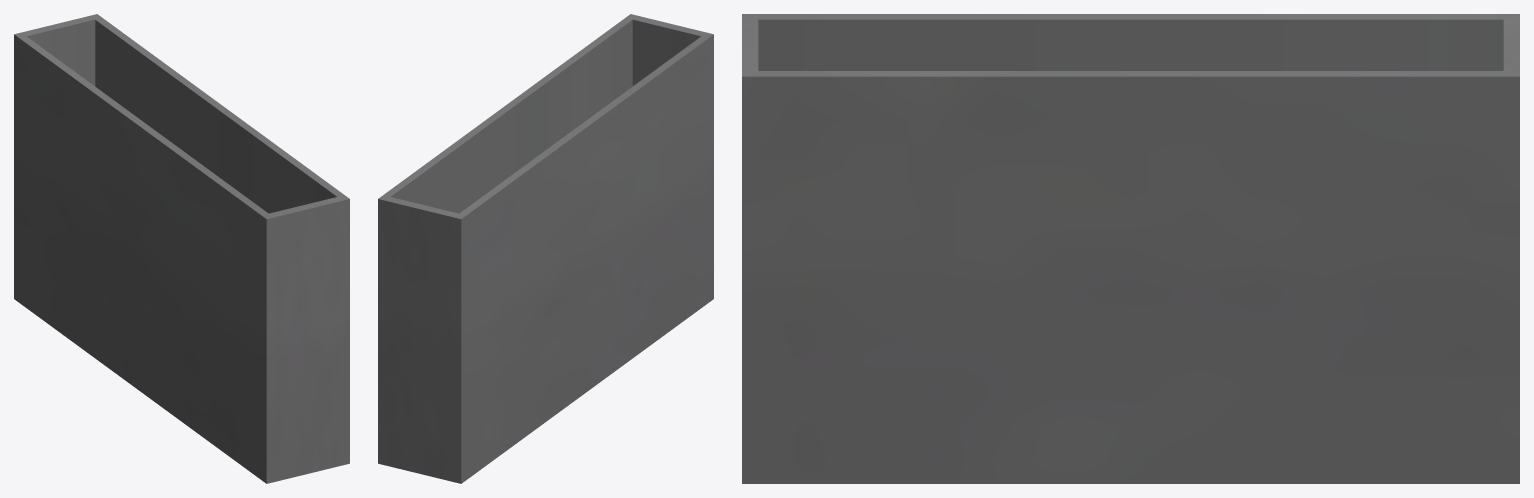
3 renders of one model, left to right at view 1: azimuth 30°, elevation 25°; view 2: azimuth 150°, elevation 25°; view 3: azimuth 270°, elevation 25°, orthographic. The views are drawn at different scales.
Visible parts, largest first — view 1: 水槽.002; view 2: 水槽.002; view 3: 水槽.002.
Part boxes in pixels (x1=…): 水槽.002: x1=14, y1=14, x2=349, y2=483; 水槽.002: x1=378, y1=14, x2=713, y2=483; 水槽.002: x1=742, y1=14, x2=1519, y2=483.
Bounding box in the file's own units: 8.57 × 26.01 × 45.
Materials: 1 (1 with a texture image).
